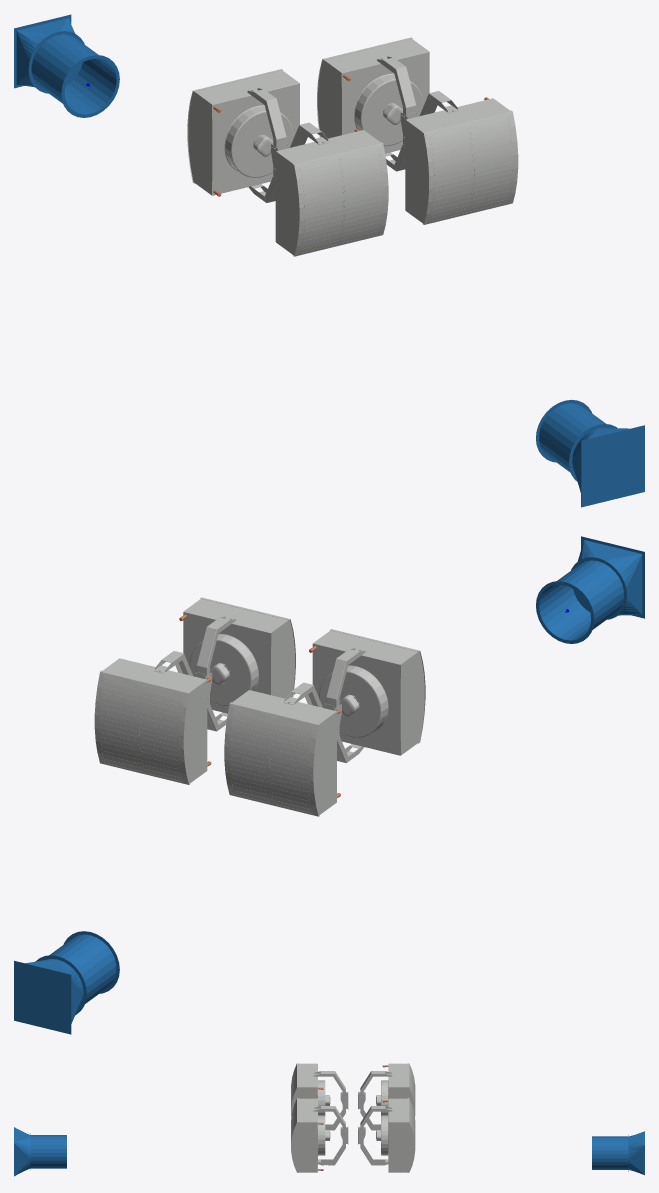
The model's file is Phase31 (2).fbx.
The picture shows the model from 3 angles, top to bottom: view 1: azimuth 30°, elevation 25°; view 2: azimuth 150°, elevation 25°; view 3: azimuth 270°, elevation 25°; orthographic projection. The views are drawn at different scales.
Parts seen in each view (by area): view 1: TECHNO_RAL 7035 (×4), Воздуховод 5015 (×2), CPS_Переходник_КруглыйНаПрямоугольный:Стандарт:677552, CPS_Переходник_КруглыйНаПрямоугольный:Стандарт:681257; view 2: TECHNO_RAL 7035 (×4), Воздуховод 5015 (×2), CPS_Переходник_КруглыйНаПрямоугольный:Стандарт:681257, CPS_Переходник_КруглыйНаПрямоугольный:Стандарт:677552; view 3: TECHNO_RAL 7035 (×4), Воздуховод 5015 (×2), CPS_Переходник_КруглыйНаПрямоугольный:Стандарт:677552, CPS_Переходник_КруглыйНаПрямоугольный:Стандарт:681257.
Part boxes in pixels (<box>): TECHNO_RAL 7035 (×4): <box>187,37,518,256</box>; Воздуховод 5015 (×2): <box>28,31,617,481</box>; CPS_Переходник_КруглыйНаПрямоугольный:Стандарт:677552: <box>572,425,644,507</box>; CPS_Переходник_КруглыйНаПрямоугольный:Стандарт:681257: <box>14,14,82,88</box>; TECHNO_RAL 7035 (×4): <box>94,597,425,816</box>; Воздуховод 5015 (×2): <box>35,557,627,1014</box>; CPS_Переходник_КруглыйНаПрямоугольный:Стандарт:681257: <box>14,959,83,1034</box>; CPS_Переходник_КруглыйНаПрямоугольный:Стандарт:677552: <box>573,536,644,618</box>; TECHNO_RAL 7035 (×4): <box>291,1063,415,1172</box>; Воздуховод 5015 (×2): <box>30,1133,628,1171</box>; CPS_Переходник_КруглыйНаПрямоугольный:Стандарт:677552: <box>14,1127,30,1176</box>; CPS_Переходник_КруглыйНаПрямоугольный:Стандарт:681257: <box>628,1131,644,1174</box>.
Bounding box in the file's own units: 1682 × 7600 × 1235.
